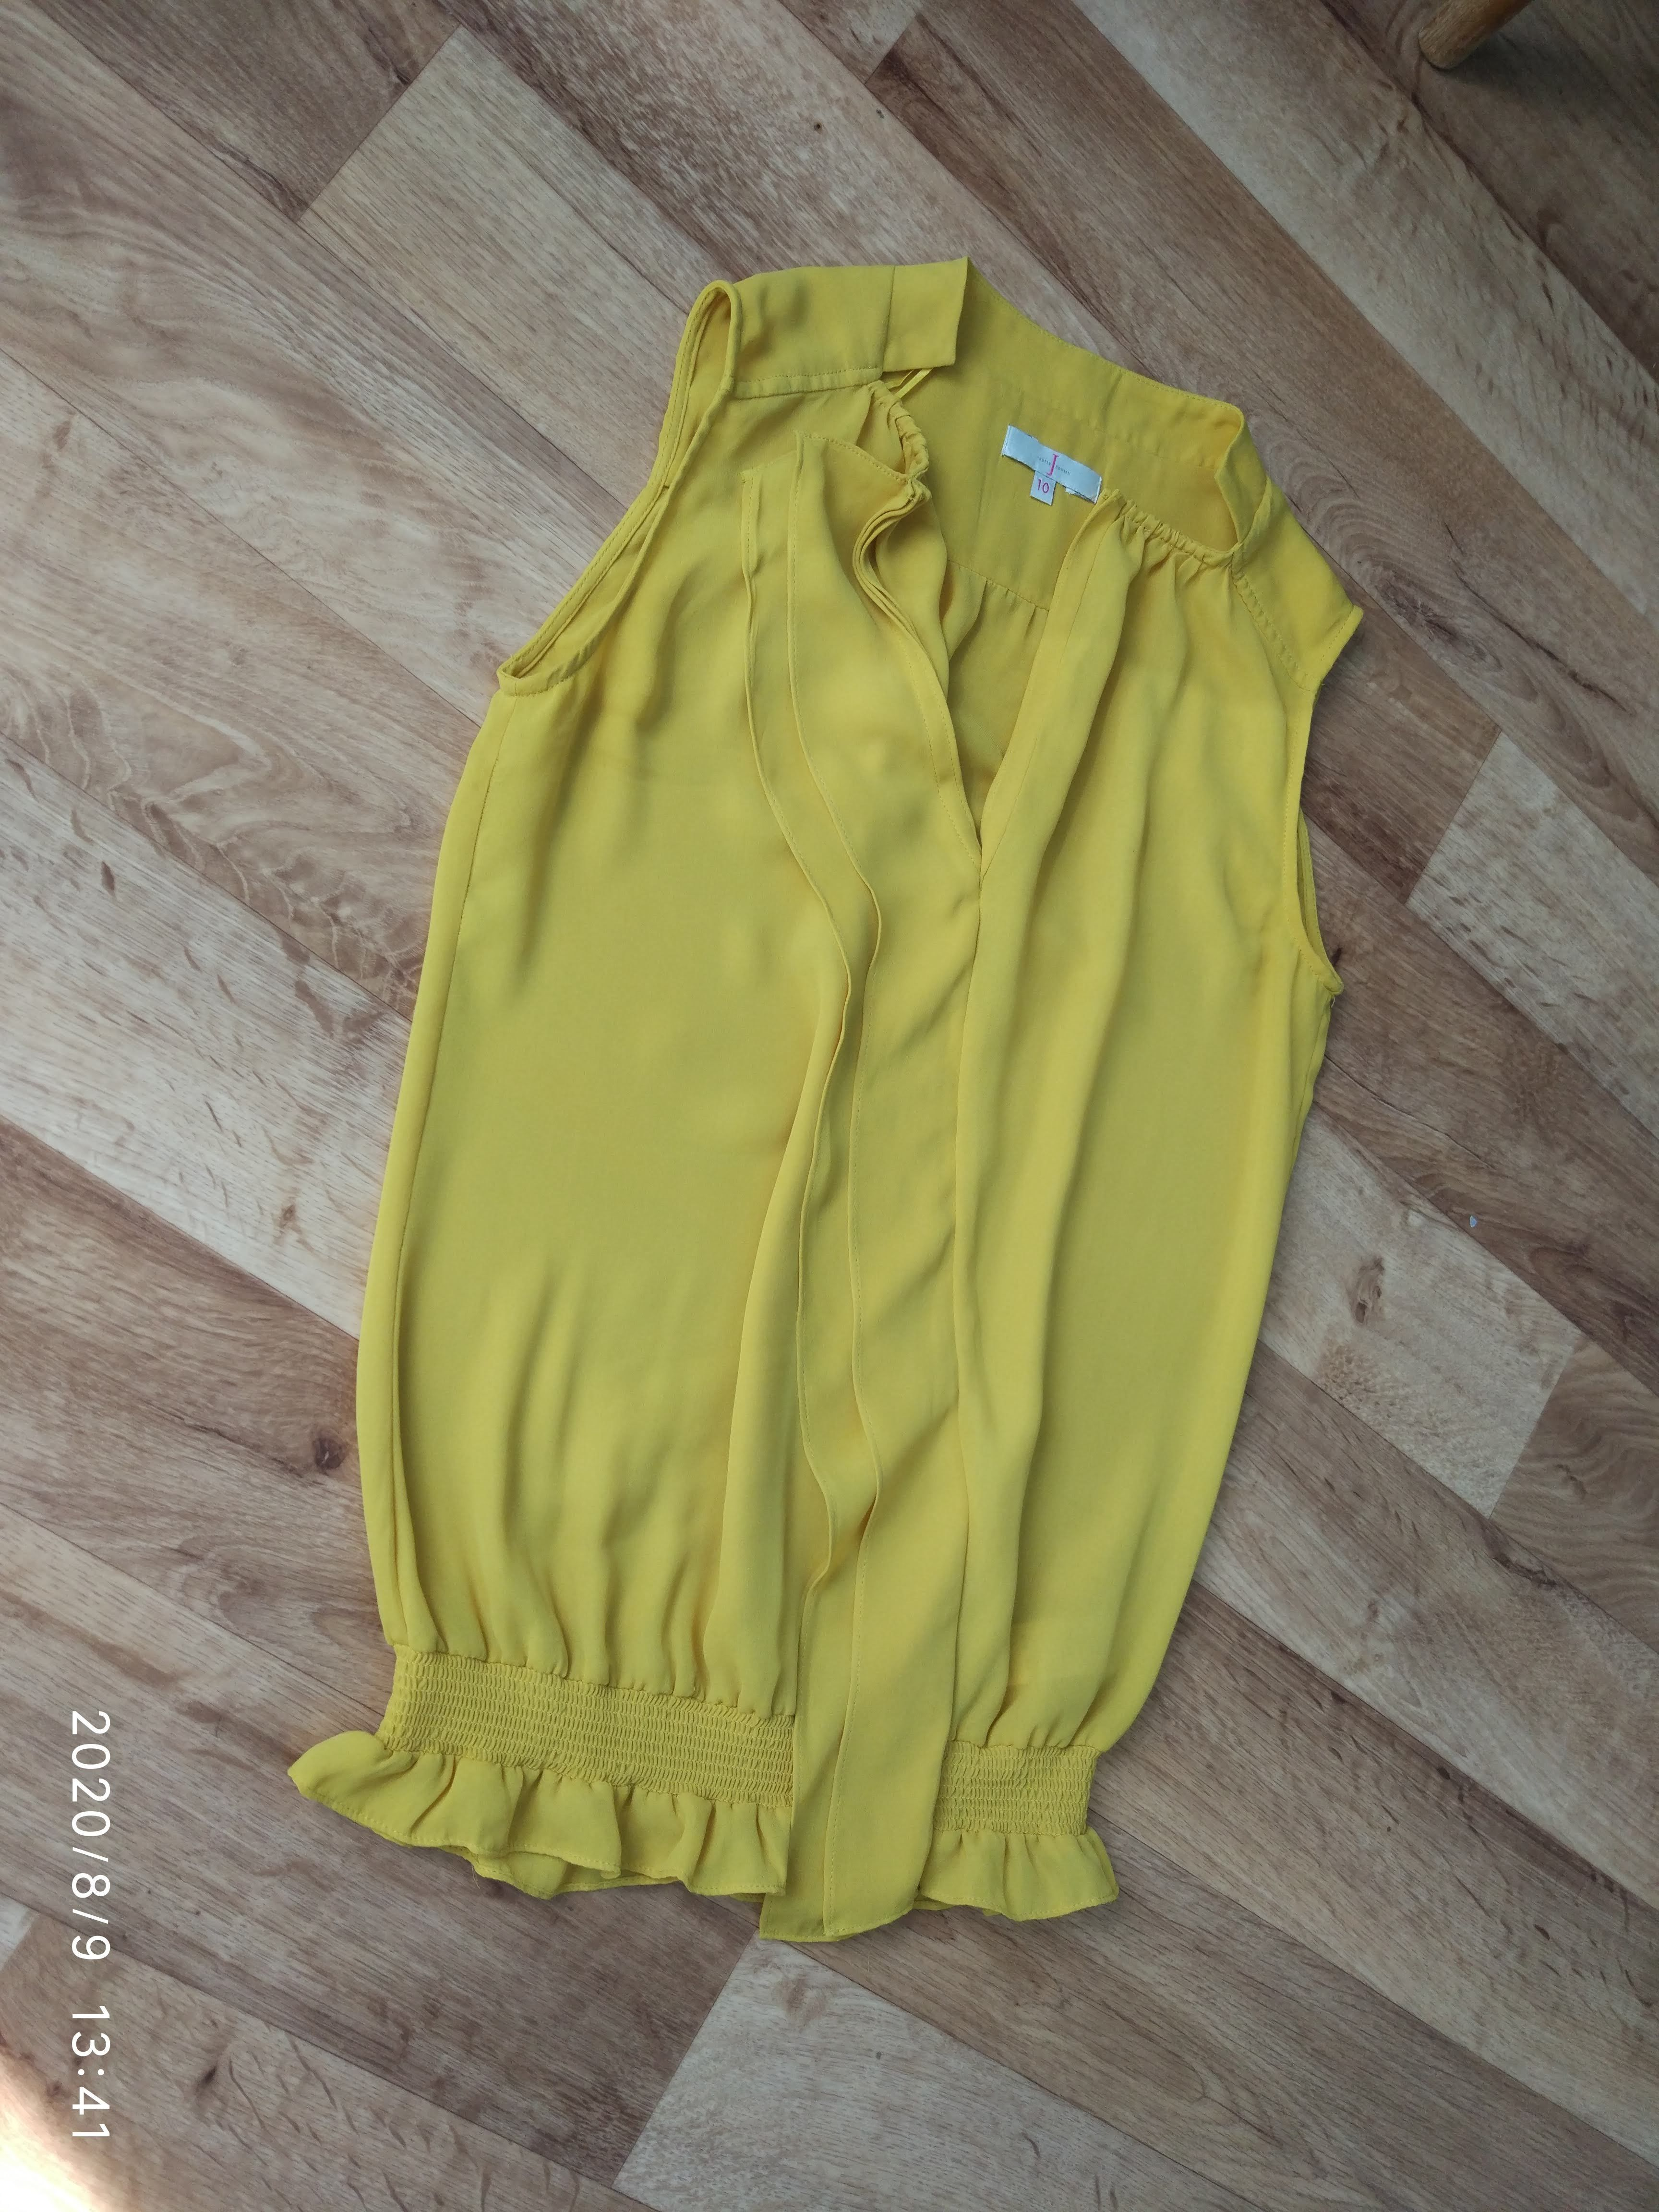clothes: (268, 244, 1361, 1965)
